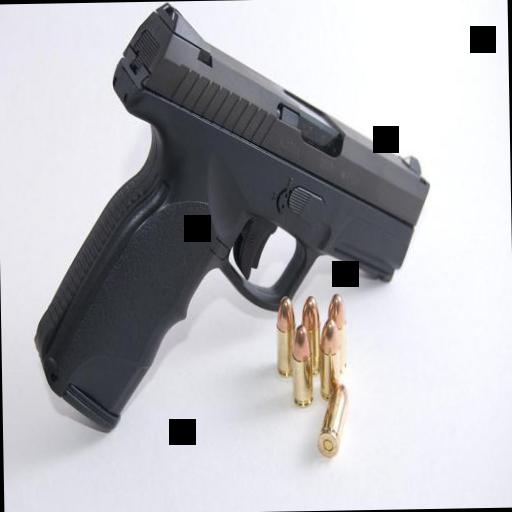Handgun: (22, 0, 434, 436)
